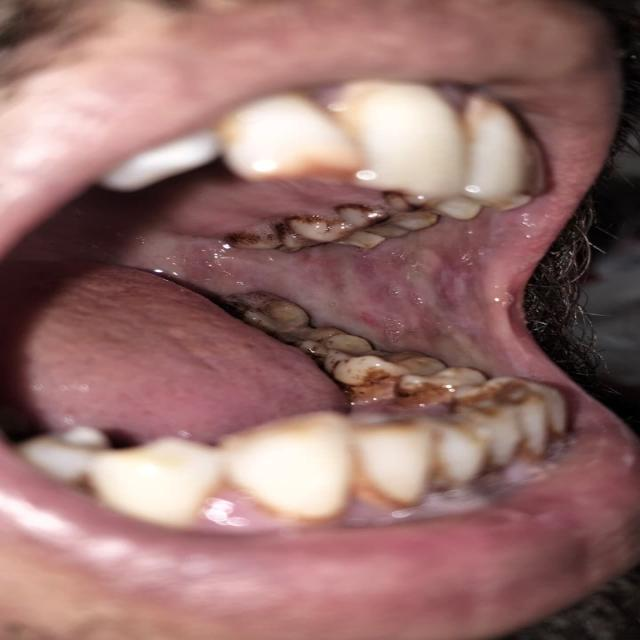leukoplakia-like-detection: (172, 212, 537, 373)
processing_area: (12, 201, 553, 434)
